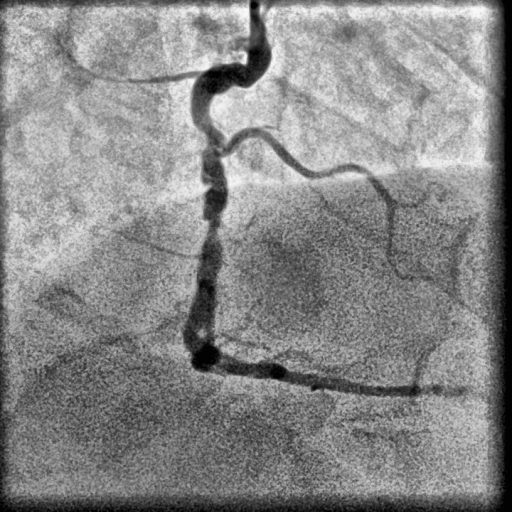pborca: (266, 365, 464, 398)
rca: (182, 1, 272, 378)
